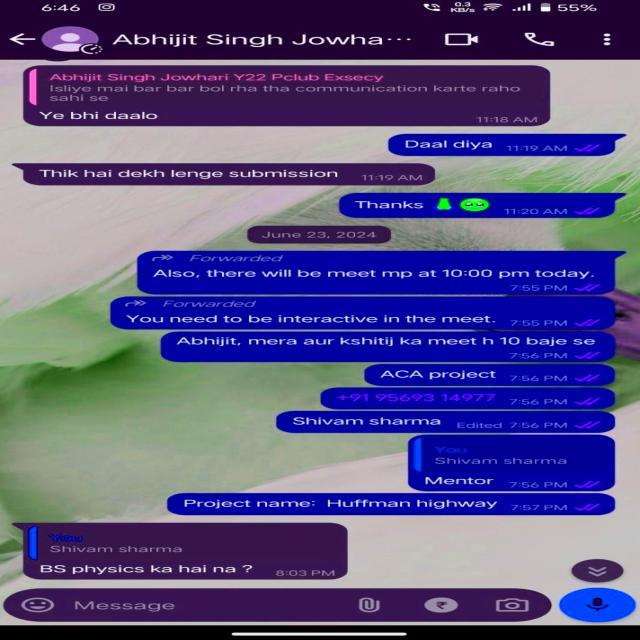scam: (27, 163, 354, 184), (28, 563, 277, 581), (36, 104, 176, 126)
